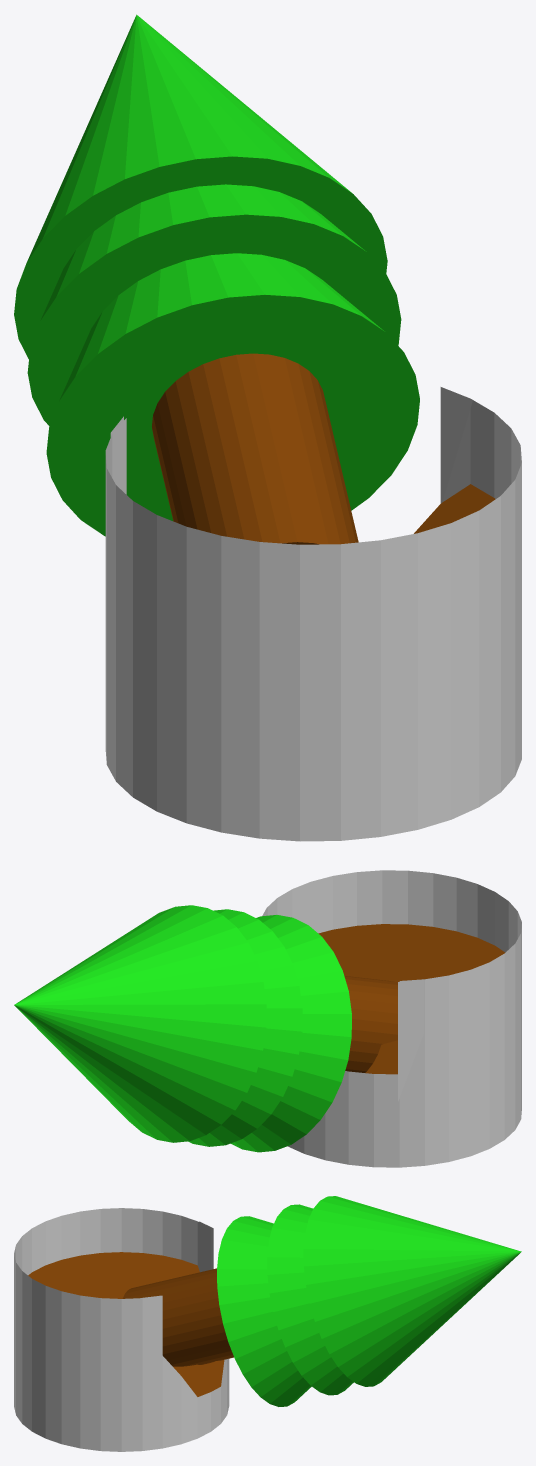
File: macetaDecorativaRota.fbx
The picture shows the model from 3 angles, top to bottom: view 1: azimuth 30°, elevation 25°; view 2: azimuth 150°, elevation 25°; view 3: azimuth 270°, elevation 25°; orthographic projection. The views are drawn at different scales.
Visible parts, largest first — view 1: Cono.002; view 2: Cono.002; view 3: Cono.002.
Boxes of the visible parts, x1=… form: Cono.002: x1=14, y1=14, x2=521, y2=841; Cono.002: x1=14, y1=870, x2=521, y2=1167; Cono.002: x1=14, y1=1196, x2=521, y2=1451.
Size of the model in its own units: 88.7 by 82.73 by 170.
